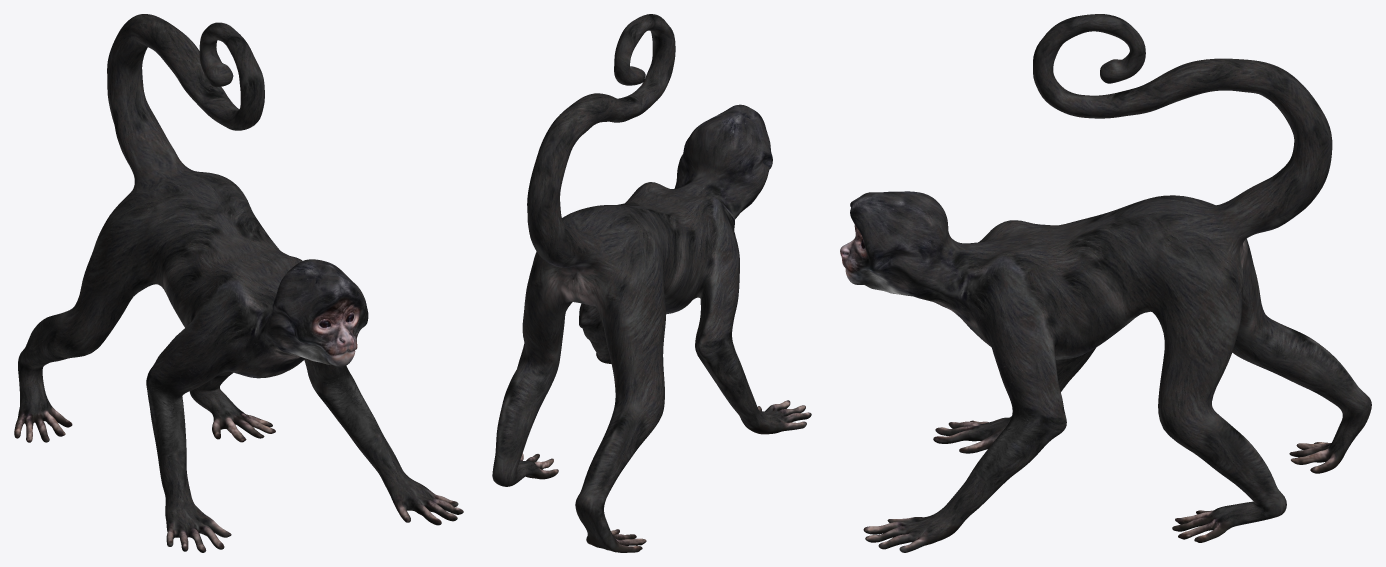
Rendered from smonkey01.glb.
The picture shows the model from 3 angles, left to right: view 1: azimuth 30°, elevation 25°; view 2: azimuth 150°, elevation 25°; view 3: azimuth 270°, elevation 25°; orthographic projection. The views are drawn at different scales.
Parts seen in each view (by area): view 1: 12958_Spider_Monkey_v1_l2; view 2: 12958_Spider_Monkey_v1_l2; view 3: 12958_Spider_Monkey_v1_l2.
Boxes of the visible parts, x1,y1,x2,y2 form: 12958_Spider_Monkey_v1_l2: (14, 14, 463, 552); 12958_Spider_Monkey_v1_l2: (492, 14, 811, 552); 12958_Spider_Monkey_v1_l2: (840, 14, 1371, 552).
Bounding box in the file's own units: 1.31 × 2.27 × 2.25.
Materials: 1 (1 with a texture image).
